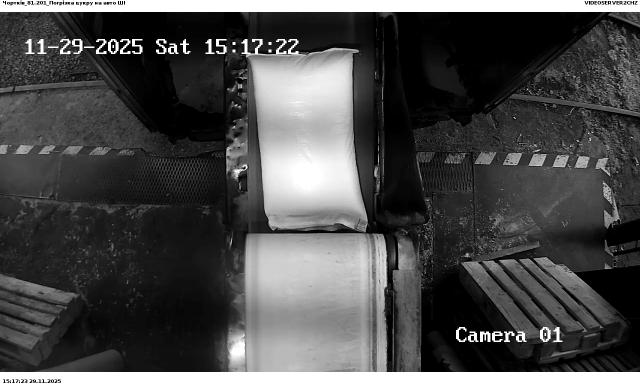bag: (247, 48, 367, 233)
